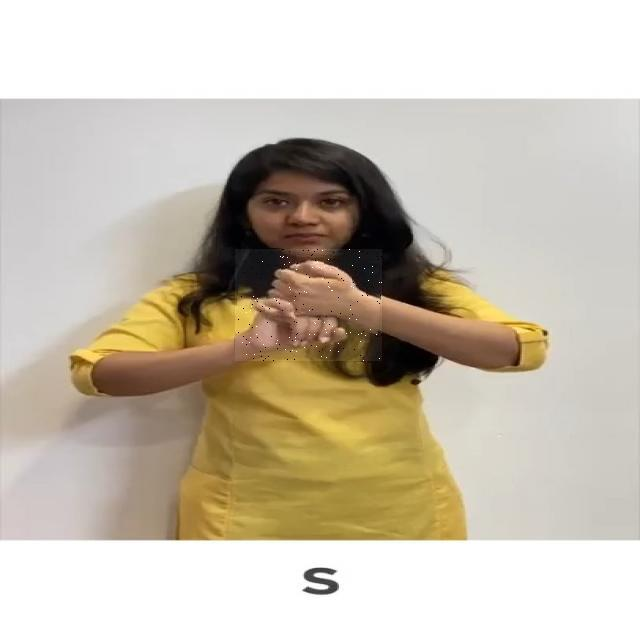S: (235, 249, 382, 361)
